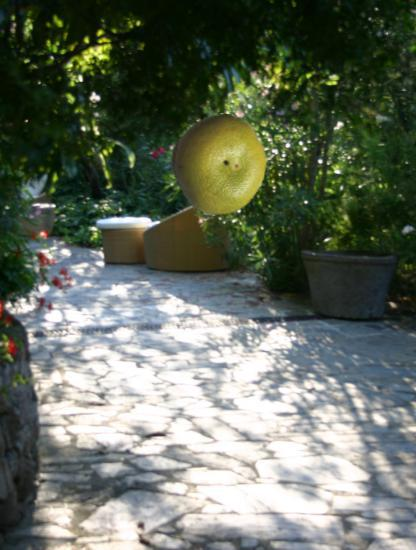Pomelo: (167, 113, 271, 217)
